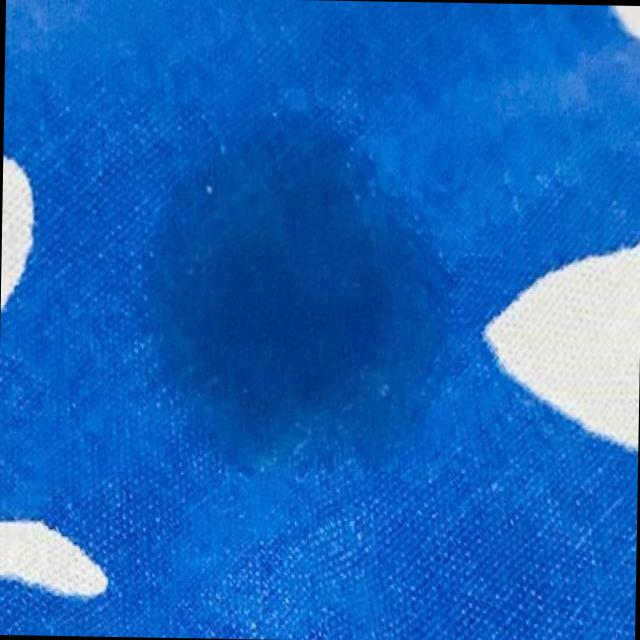stain: (137, 100, 456, 479)
